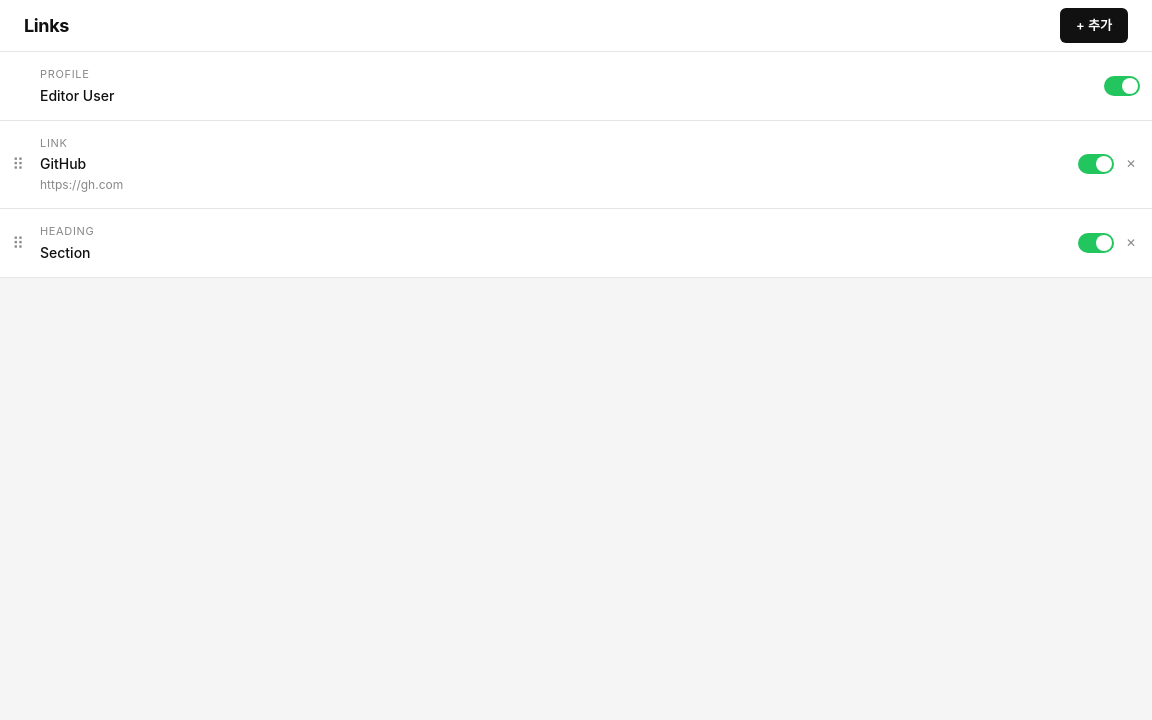
Test: Editor › appends a new block via AddBlockModal then closes the modal
The image size is (1152, 720).
Click the button "+ 추가" at (1094, 26), box [1060,8,1128,43]
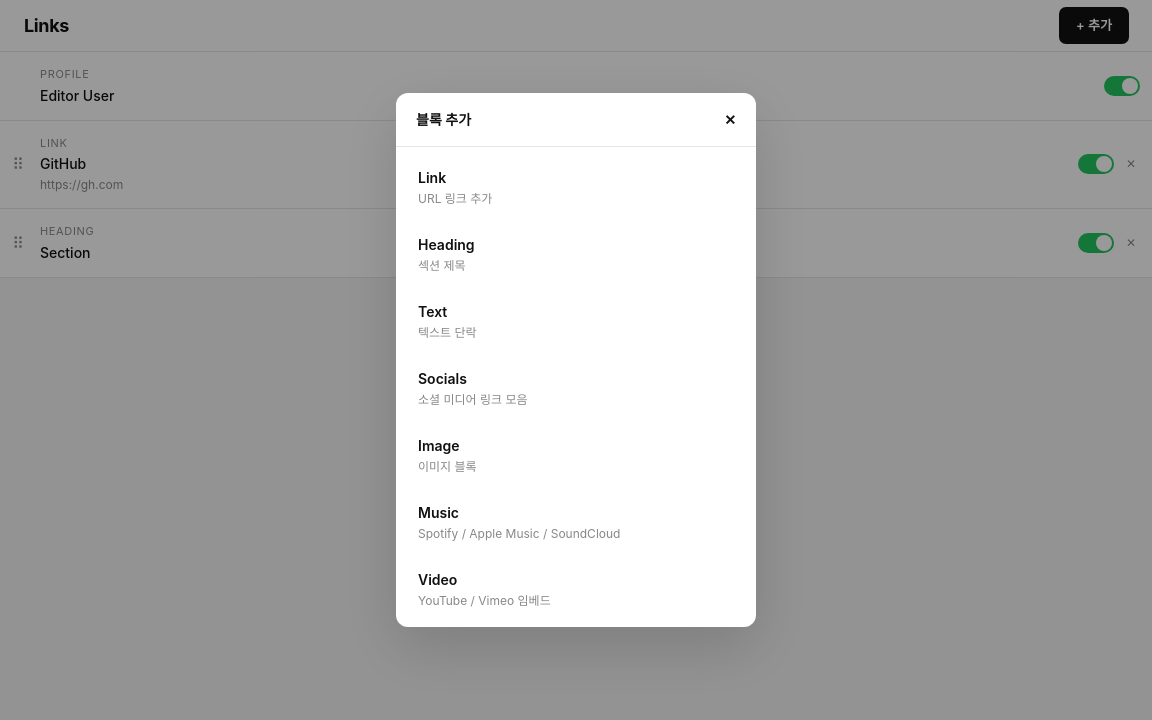
Click the button "Heading 섹션 제목" at (446, 244), box [404,222,748,287]
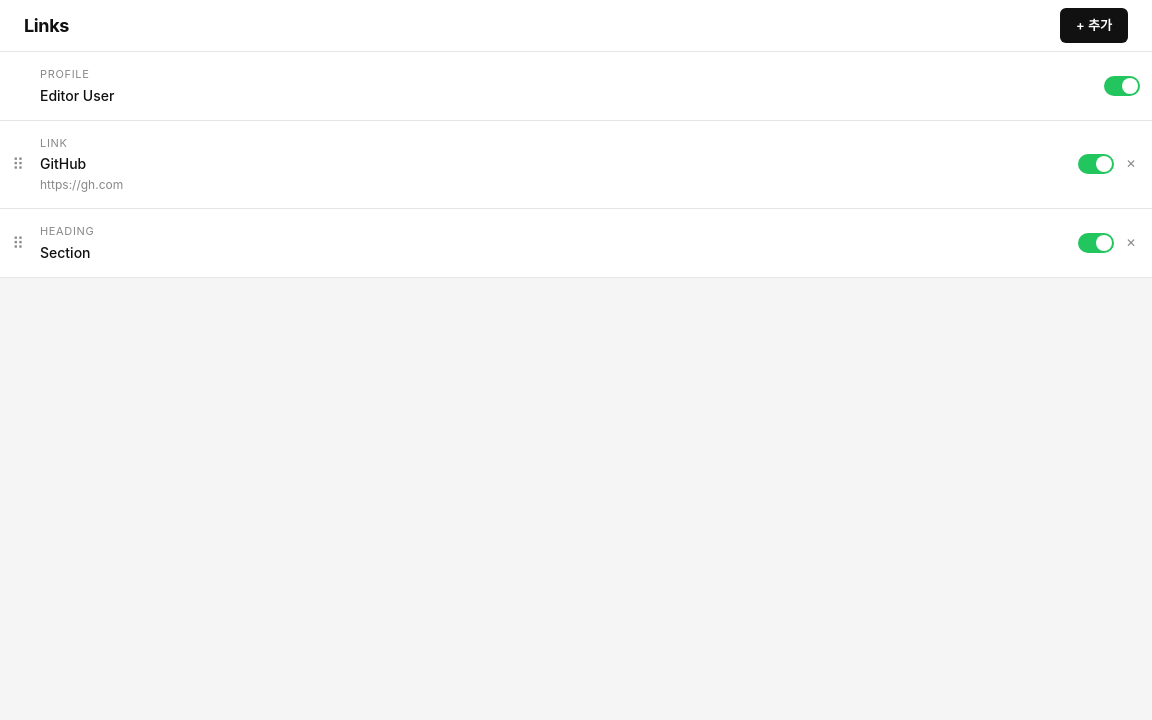
expect the heading "블록 추가" is gone: met
